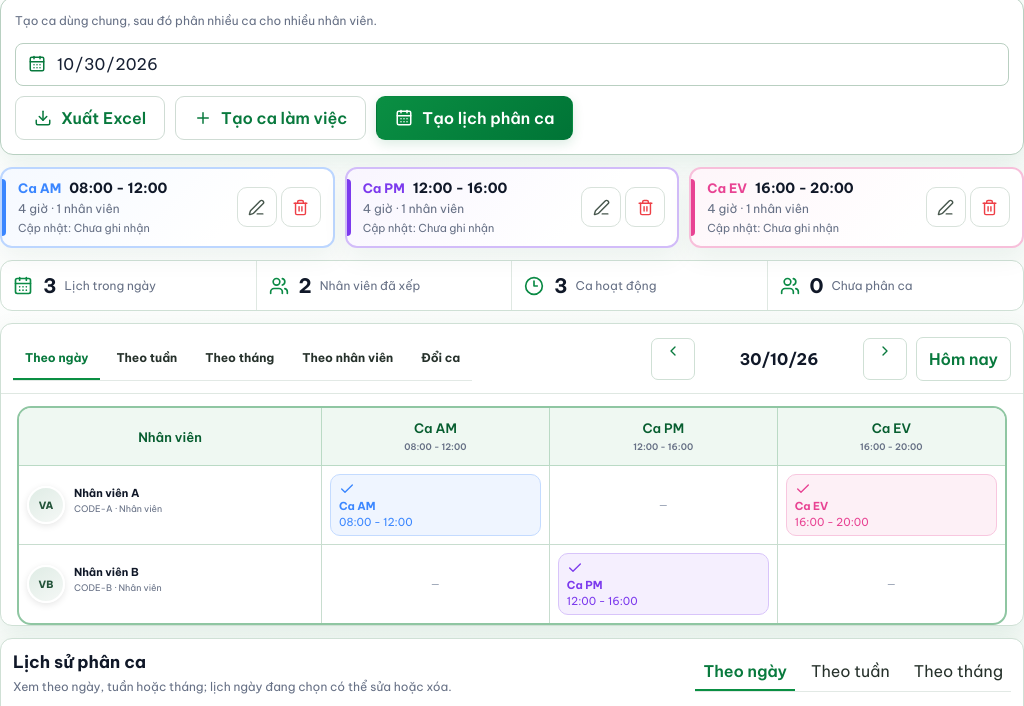
requires explicit selection for multiple eligible shifts
Click the tab "Đổi ca" at {"x": 441, "y": 358}, box left=409, top=336, right=472, bottom=380
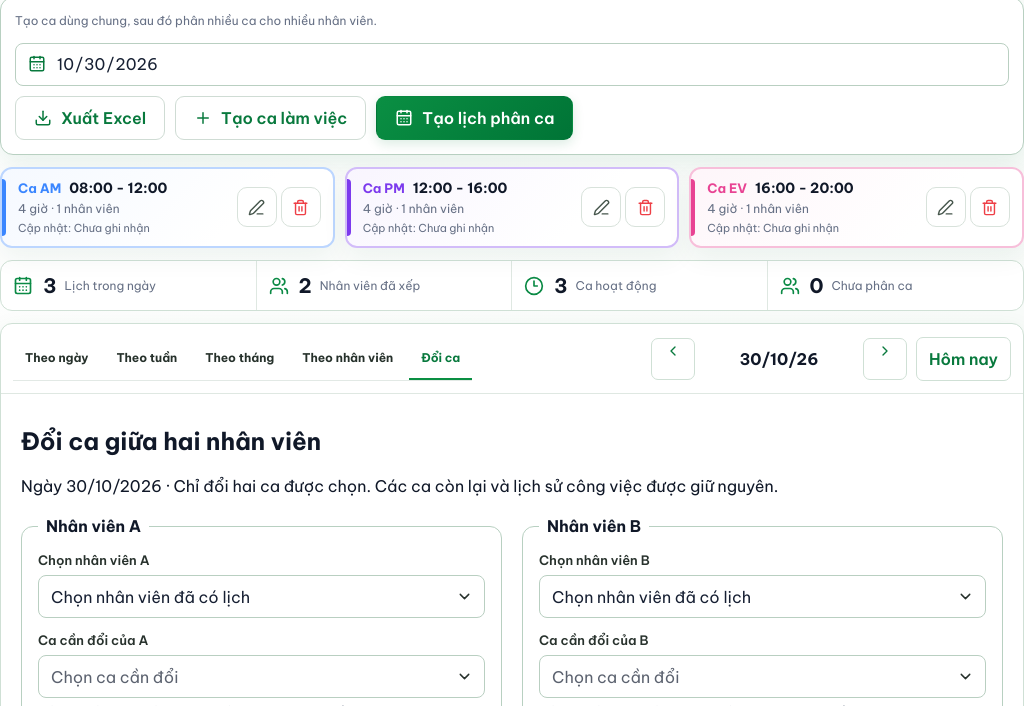
Select "Nhân viên A · CODE-A" in the dropdown labelled "Chọn nhân viên A" at {"x": 250, "y": 597}, box left=51, top=576, right=450, bottom=617
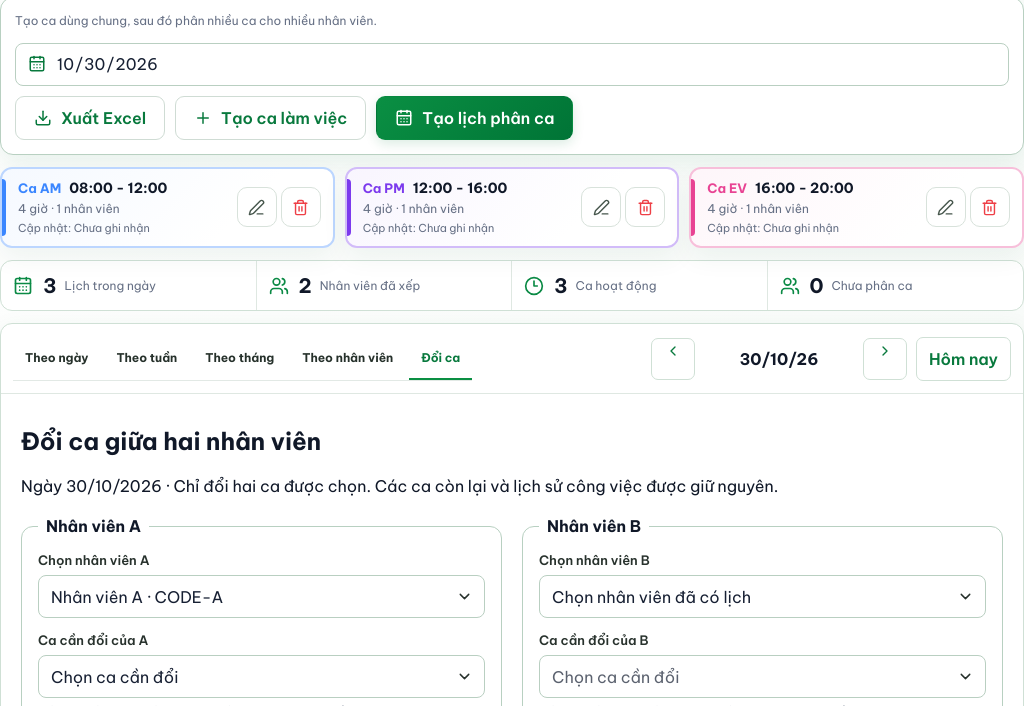
Select "Nhân viên B · CODE-B" in the dropdown labelled "Chọn nhân viên B" at {"x": 752, "y": 597}, box left=552, top=576, right=951, bottom=617
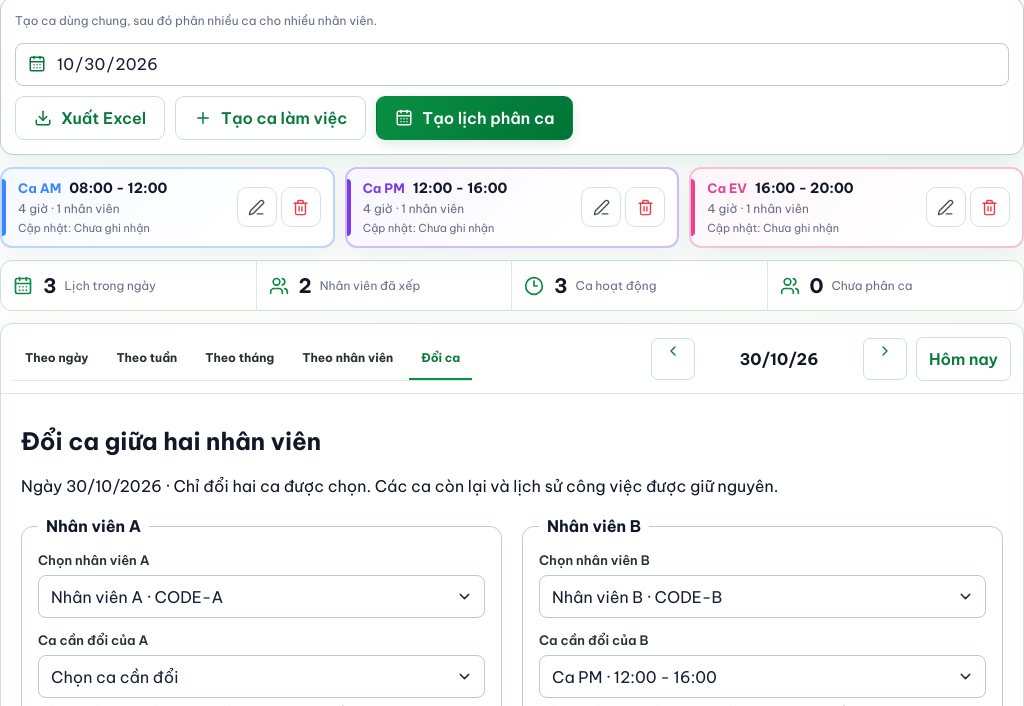
Now the dropdown labelled "Ca cần đổi của A" shows "Chọn ca cần đổi"
Select "Ca EV · 16:00 - 20:00" in the dropdown labelled "Ca cần đổi của A" at {"x": 250, "y": 677}, box left=51, top=656, right=450, bottom=697
(page scrolled)
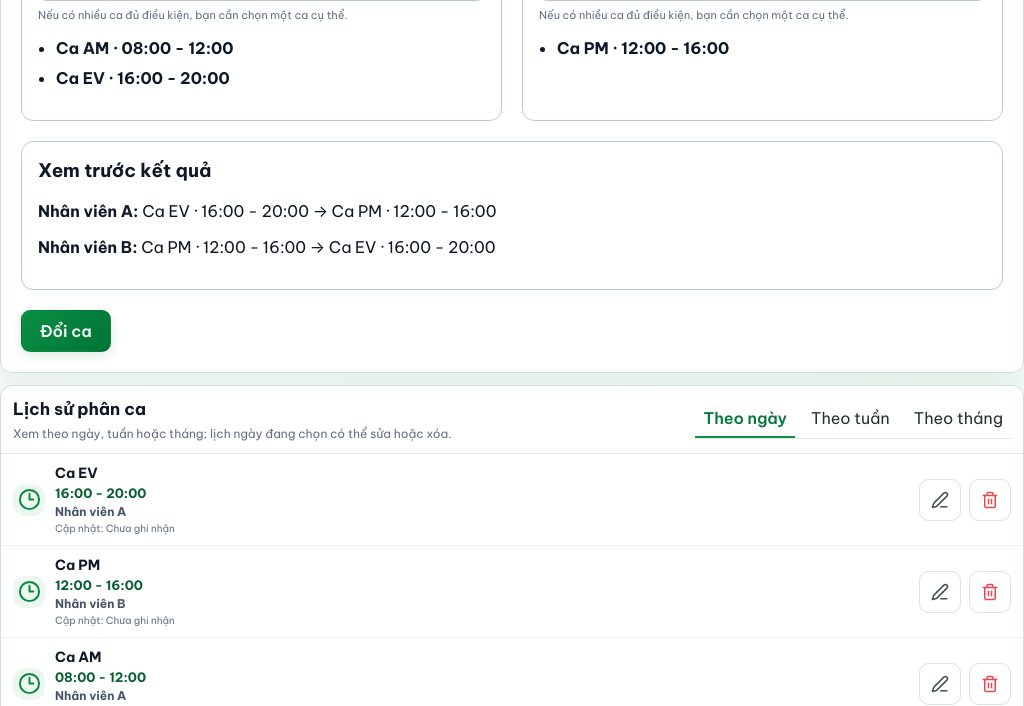
Now the button "Đổi ca" is enabled, box left=21, top=310, right=111, bottom=352
